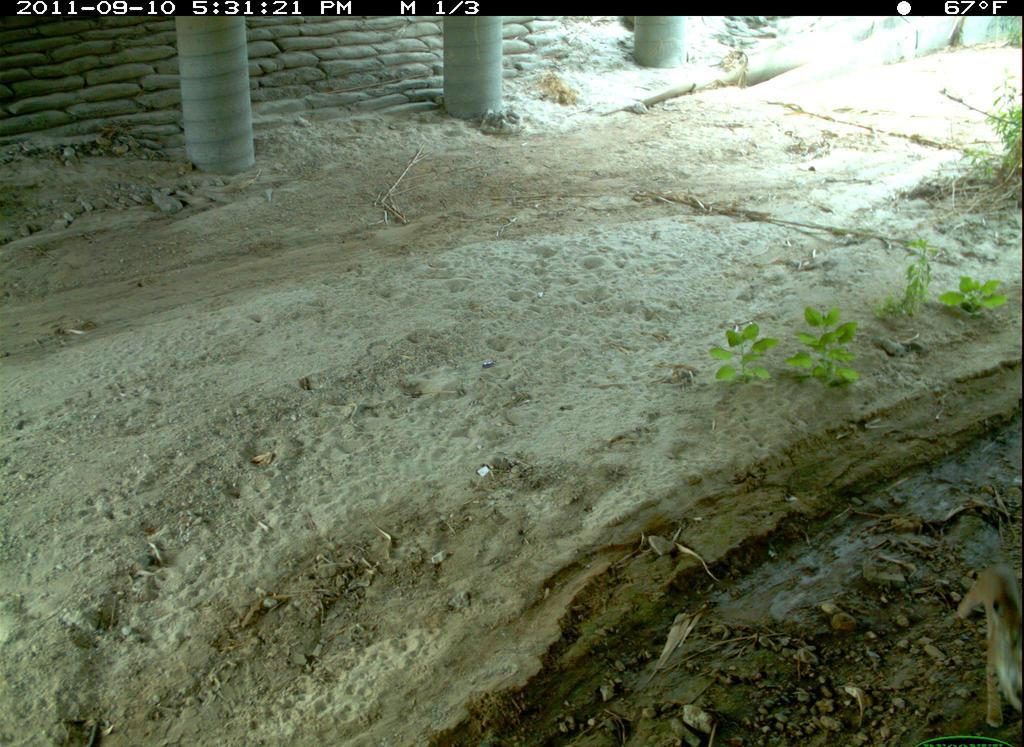bobcat: (948, 548, 1023, 734)
